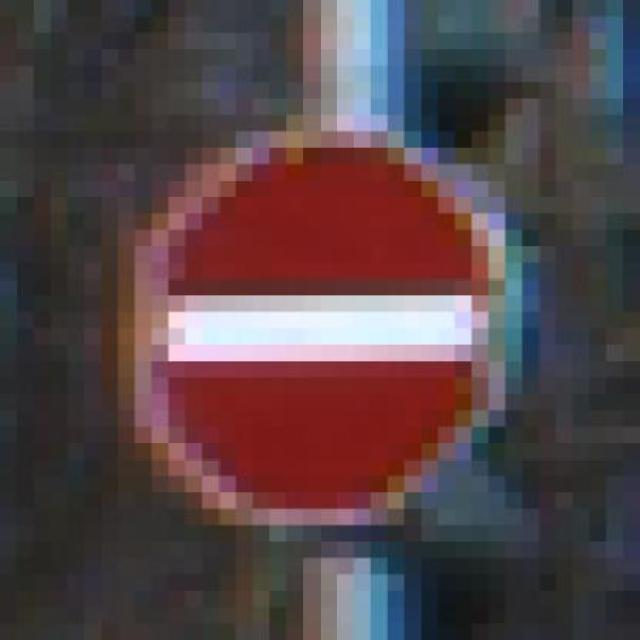B2: (124, 136, 512, 524)
